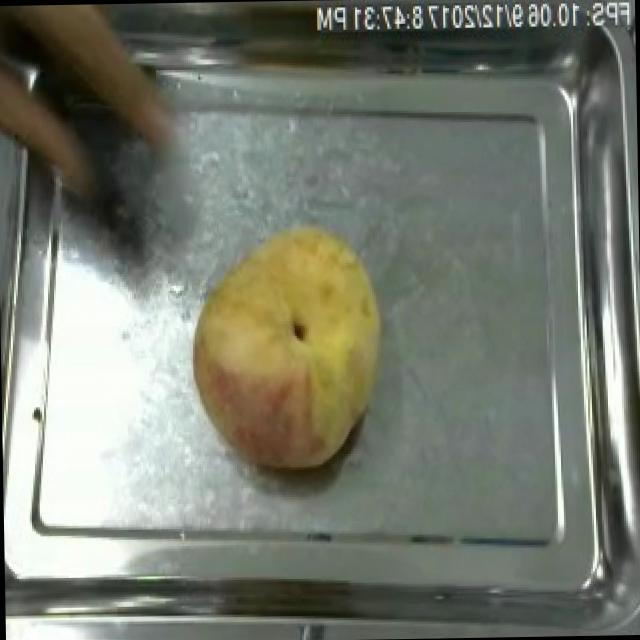Fruit: (178, 212, 395, 479)
